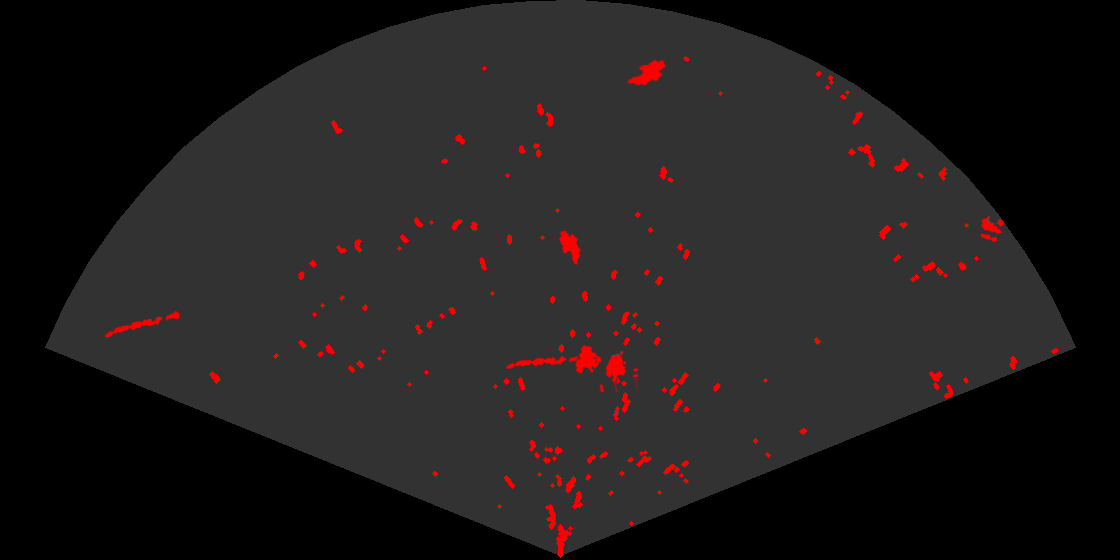AUV: (625, 58, 668, 88), (557, 228, 583, 267)
ball: (978, 214, 1006, 244)
cage: (574, 343, 638, 392)
chain: (103, 309, 183, 339), (504, 353, 584, 371)
